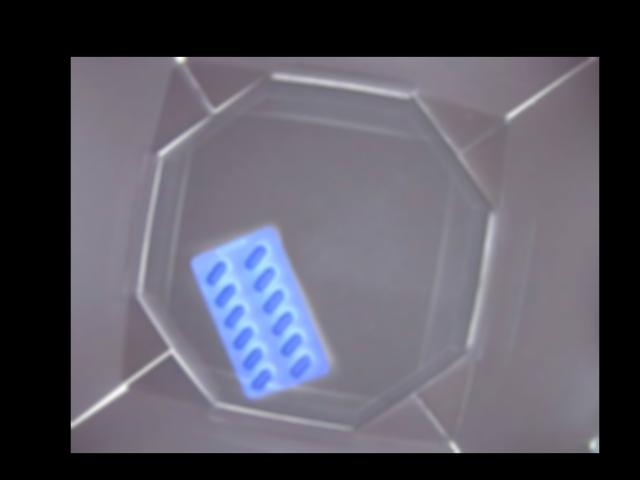Medicine: (192, 225, 331, 398)
